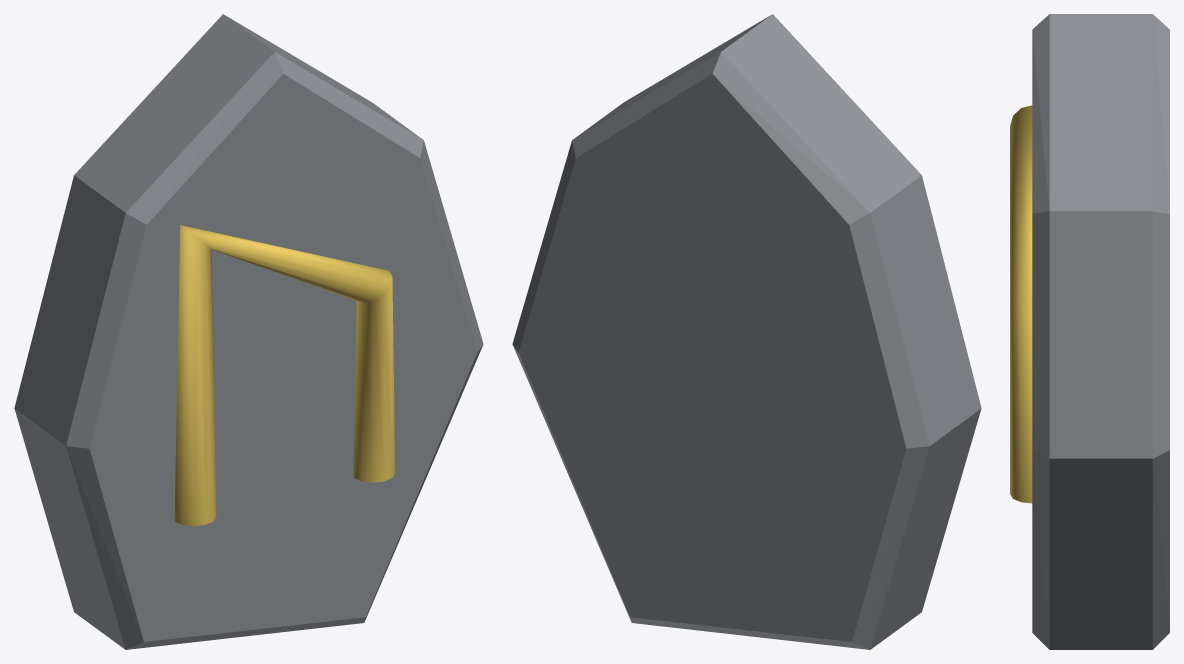
File: pickup_uruz_Idle.glb
3 renders of one model, left to right at view 1: azimuth 30°, elevation 25°; view 2: azimuth 150°, elevation 25°; view 3: azimuth 270°, elevation 25°, orthographic.
Bounding box in the file's own units: 14 × 19 × 4.65.
